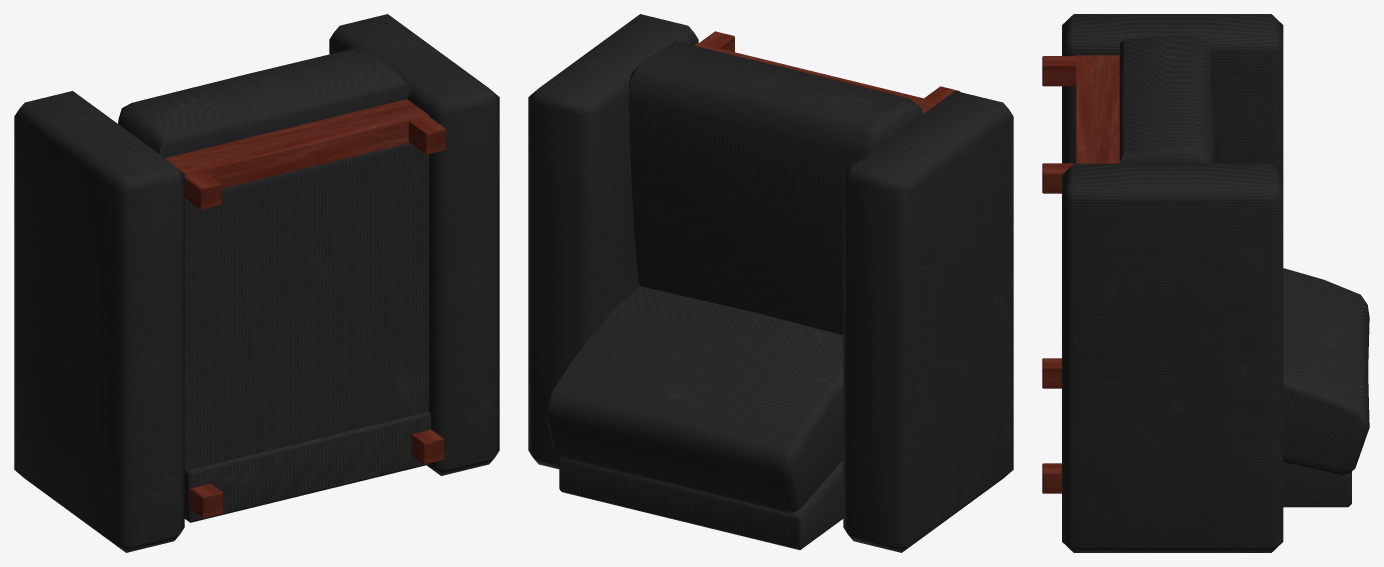
Rendered from mH_SingleSeatCouch.fbx.
3 renders of one model, left to right at view 1: azimuth 30°, elevation 25°; view 2: azimuth 150°, elevation 25°; view 3: azimuth 270°, elevation 25°, orthographic. The views are drawn at different scales.
Visible parts, largest first — view 1: mH_SingleSeatCouch; view 2: mH_SingleSeatCouch; view 3: mH_SingleSeatCouch.
Boxes of the visible parts, x1,y1,x2,y2 form: mH_SingleSeatCouch: [14, 14, 499, 552]; mH_SingleSeatCouch: [528, 14, 1013, 552]; mH_SingleSeatCouch: [1042, 14, 1369, 552].
Size of the model in its own units: 152 by 148 by 115.
